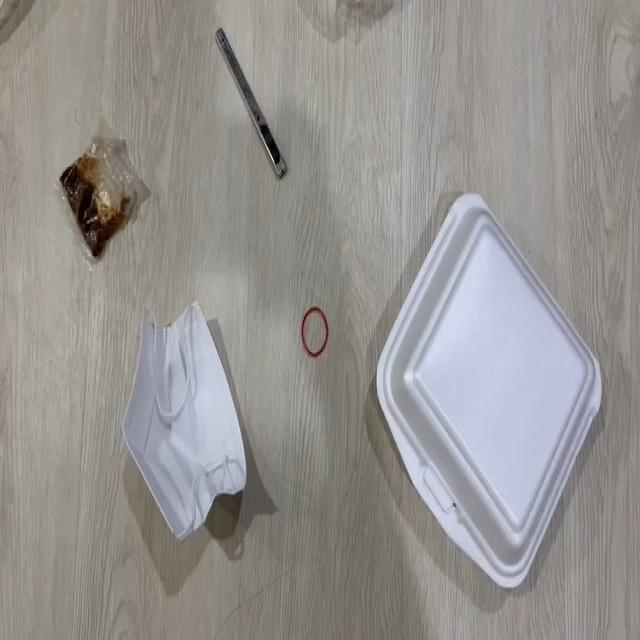Anorganik: (353, 189, 611, 593), (195, 23, 293, 186), (293, 300, 332, 360)
B3: (94, 288, 254, 546), (47, 102, 149, 266)
